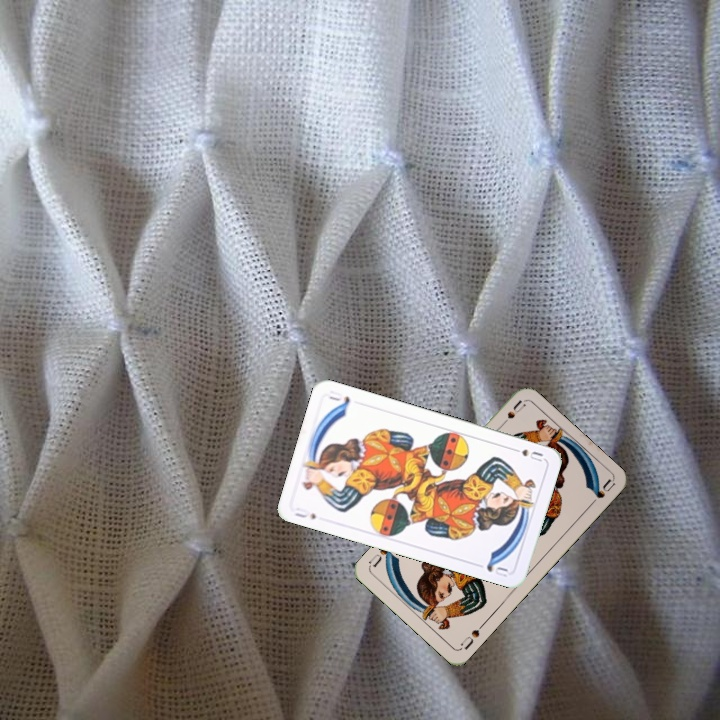SU: (494, 396, 528, 431), (456, 618, 487, 652), (506, 443, 545, 464), (290, 503, 319, 522)
